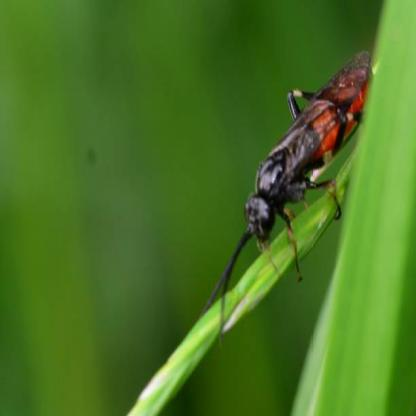sawfly: (198, 28, 375, 334)
